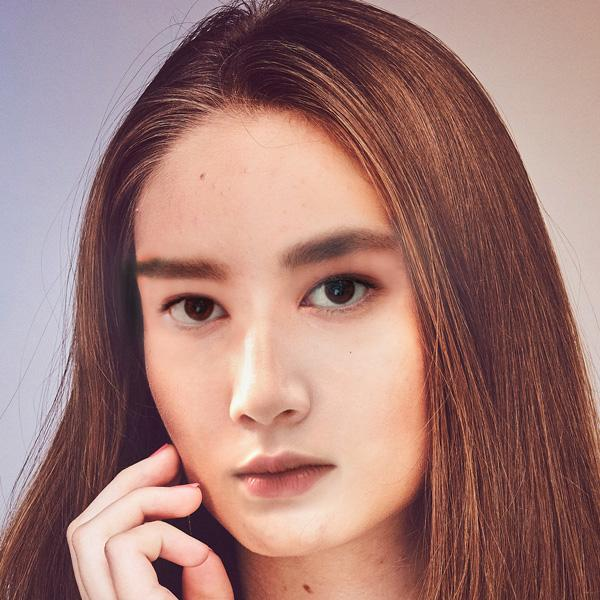Eyes: (286, 256, 389, 326), (151, 276, 239, 340)
